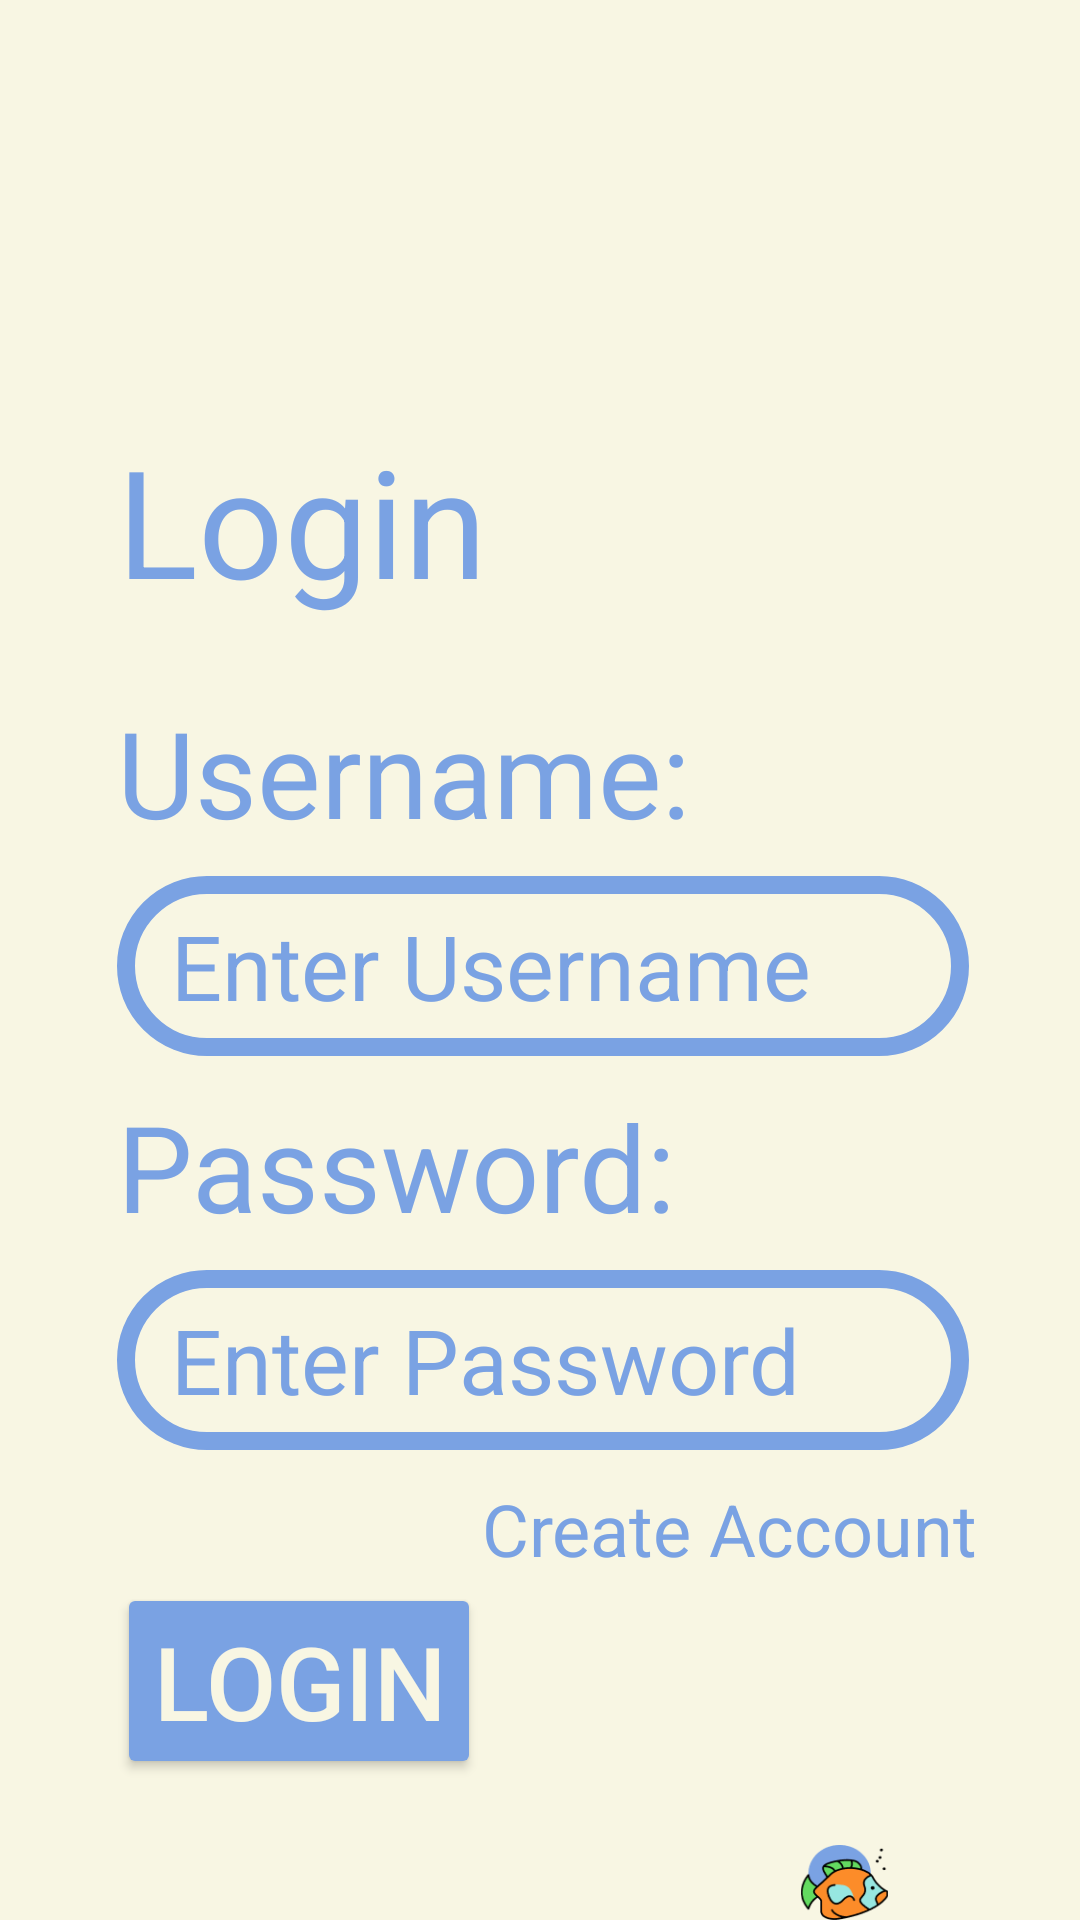

Where icons sit on this 1080px x 1920px app screen, as detection(x1, y1, x2, y2):
fish: detection(801, 1845, 888, 1920)
